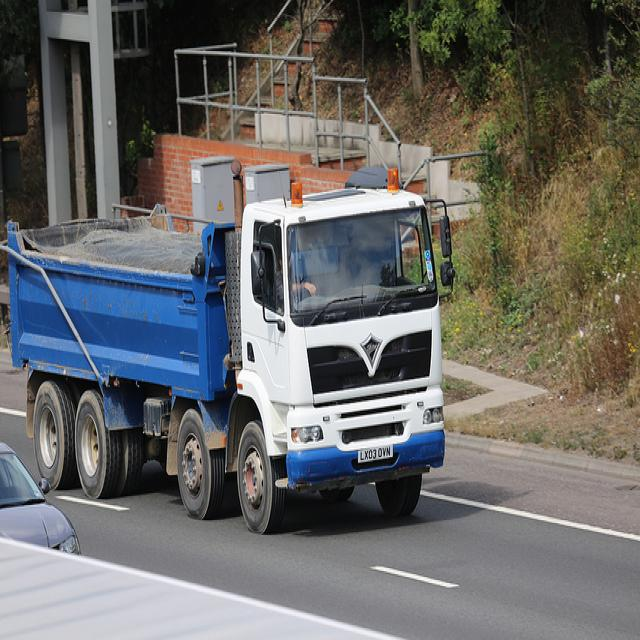Vehicle: (9, 184, 458, 537), (0, 443, 83, 554)
